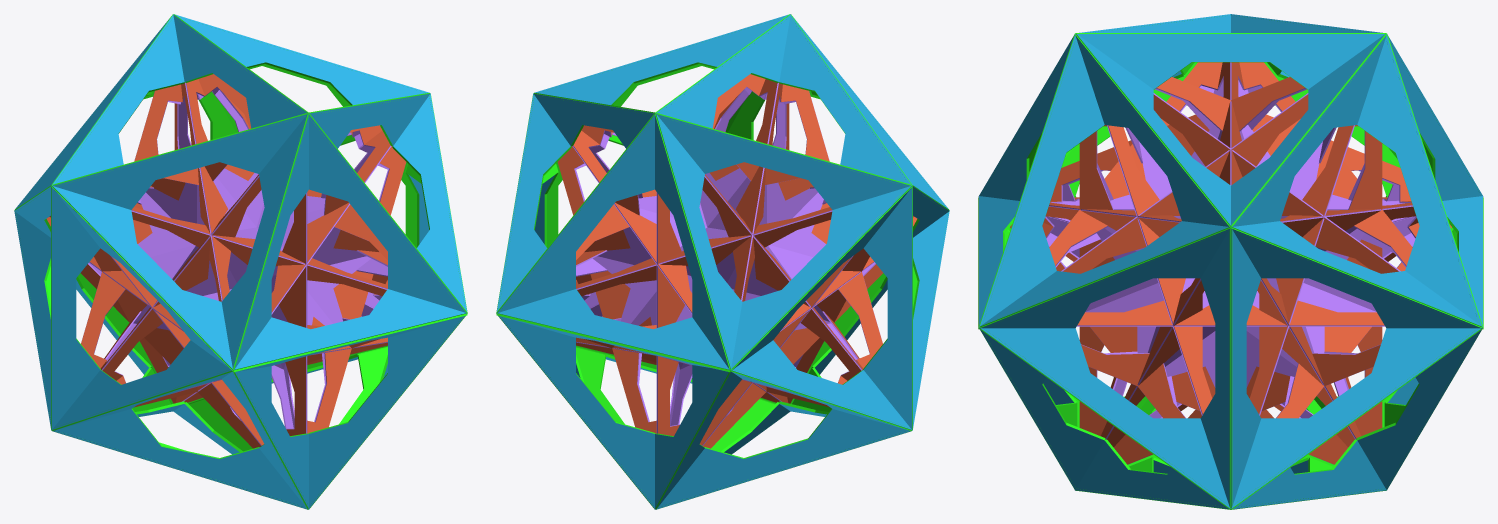
The model's file is GreatDodecahedronS1.glb.
The picture shows the model from 3 angles, left to right: view 1: azimuth 30°, elevation 25°; view 2: azimuth 150°, elevation 25°; view 3: azimuth 270°, elevation 25°; orthographic projection. The views are drawn at different scales.
Visible parts, largest first — view 1: Mesh_0.003, Mesh_0.002; view 2: Mesh_0.003, Mesh_0.002; view 3: Mesh_0.003, Mesh_0.002.
Part boxes in pixels (<box>): Mesh_0.003: <box>14,14,467,509</box>; Mesh_0.002: <box>46,74,406,448</box>; Mesh_0.003: <box>496,14,949,509</box>; Mesh_0.002: <box>557,74,917,448</box>; Mesh_0.003: <box>978,14,1483,509</box>; Mesh_0.002: <box>1010,62,1451,464</box>.
Size of the model in its own units: 7.74 by 7.74 by 7.75.
